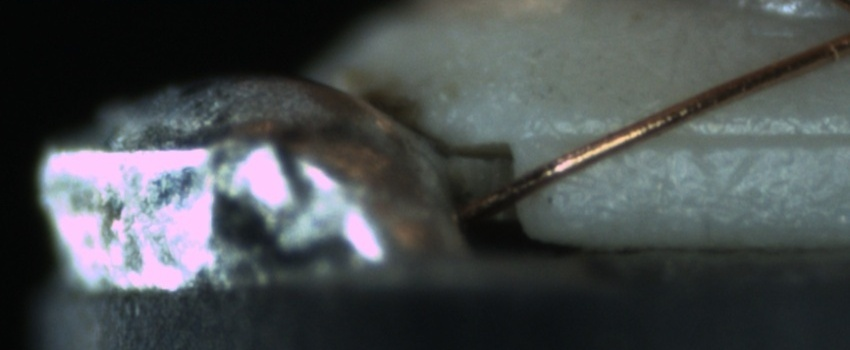DL: (548, 105, 849, 170)
